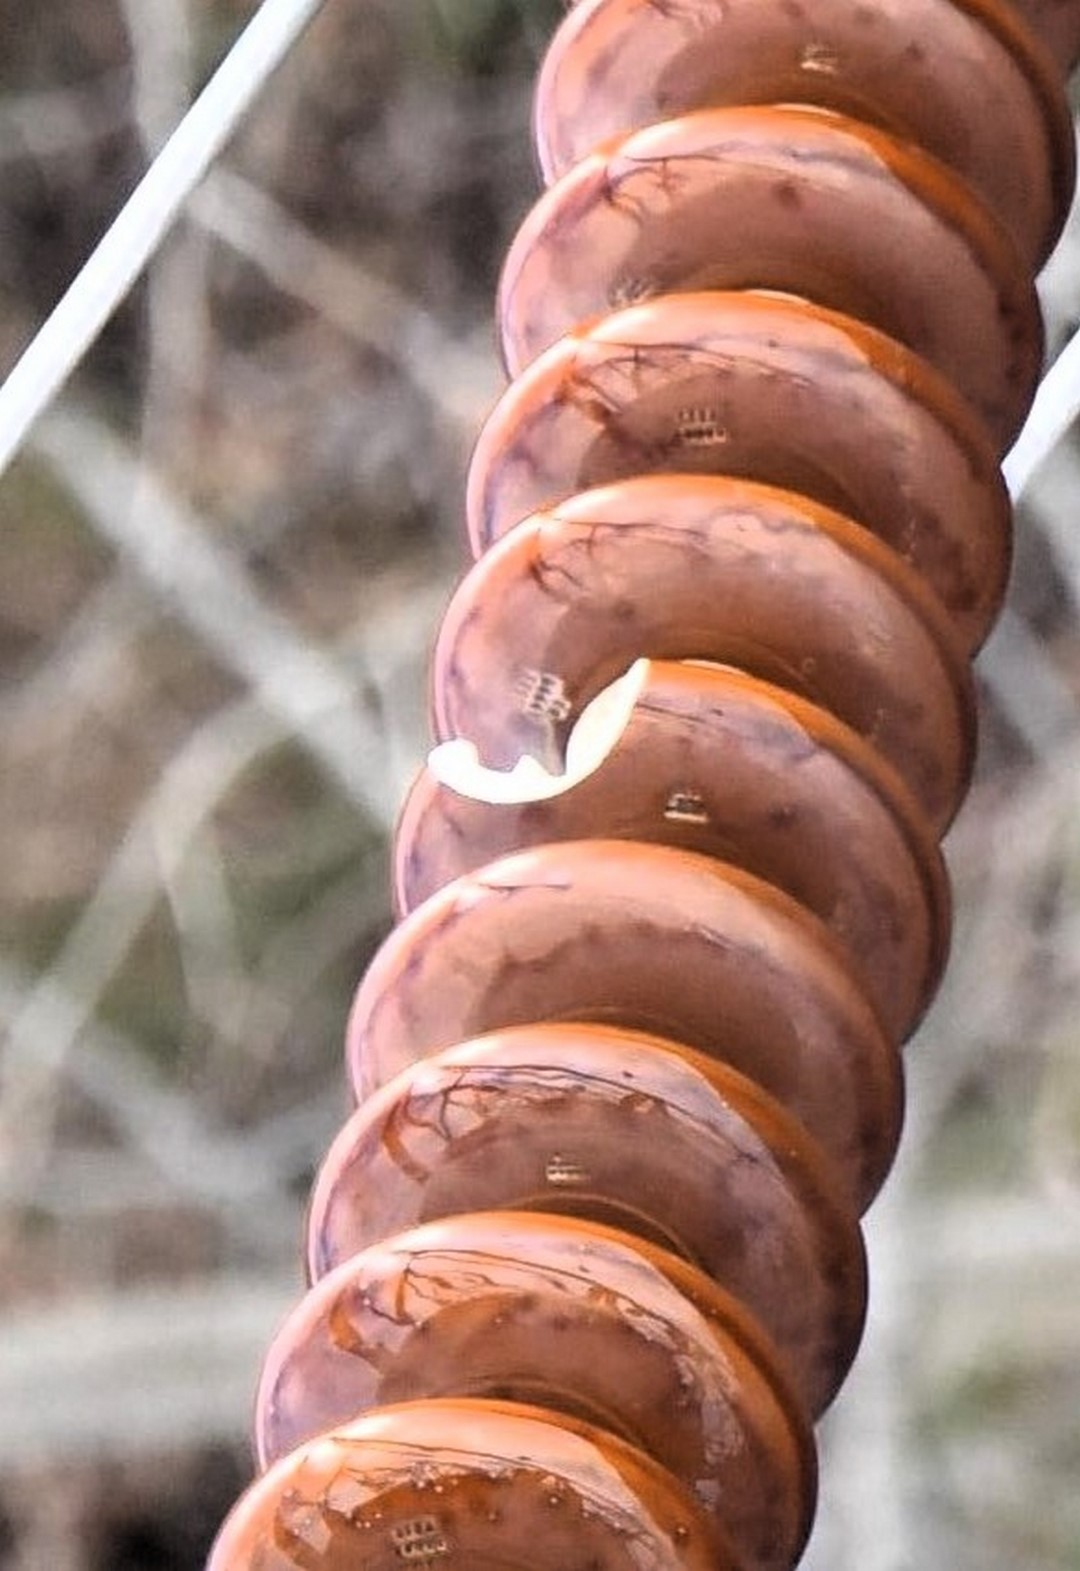insulator breakage: (377, 643, 975, 1035)
